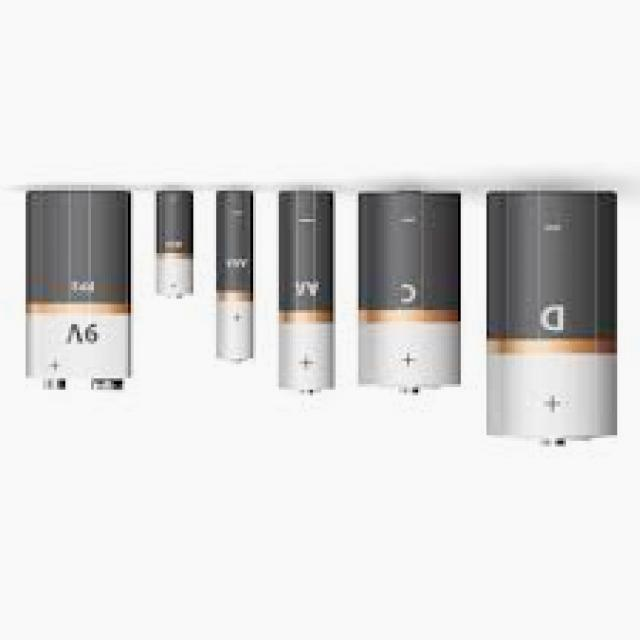battery: (485, 190, 616, 449), (357, 190, 462, 395), (25, 190, 132, 390), (278, 190, 334, 395), (216, 191, 254, 365), (154, 191, 194, 299)
